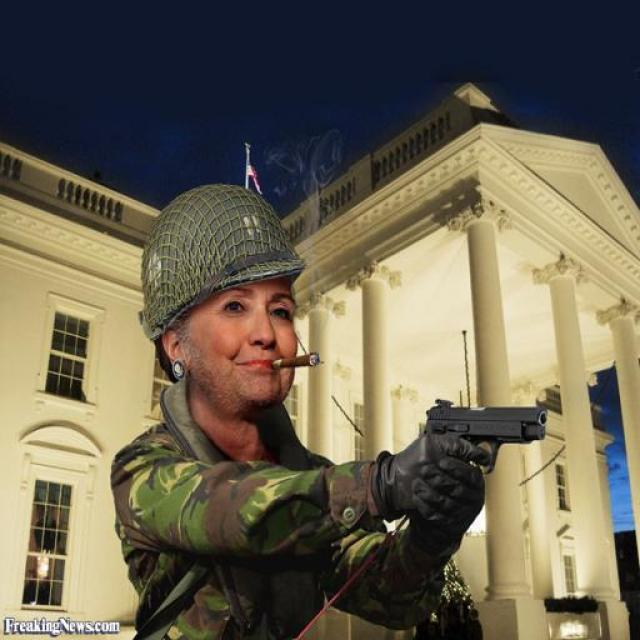pistol: (420, 403, 549, 519)
